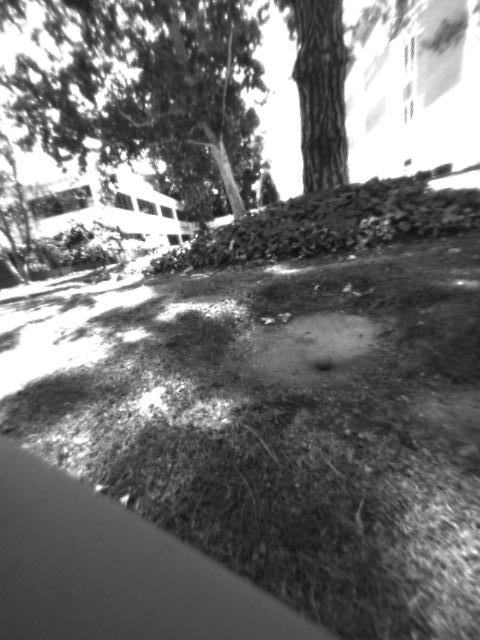dogtoy: (308, 348, 345, 377)
